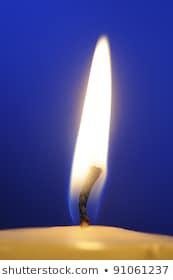fire: (67, 35, 115, 210)
